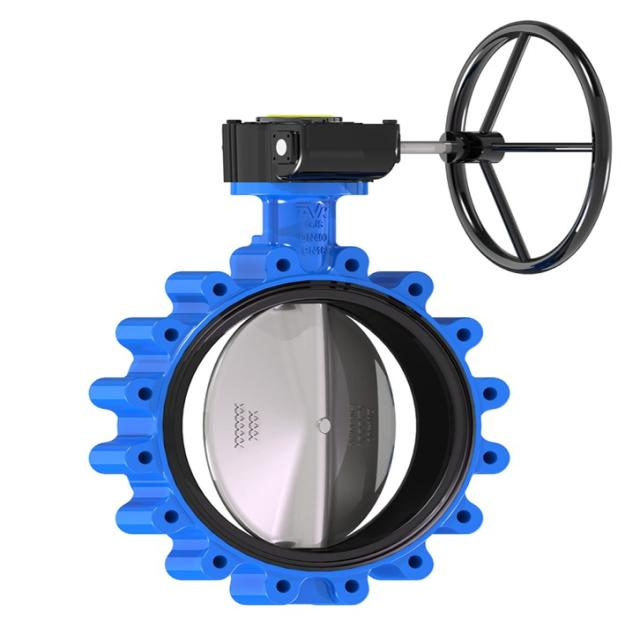Wheel Handle Valve Threaded: (434, 6, 626, 282)
